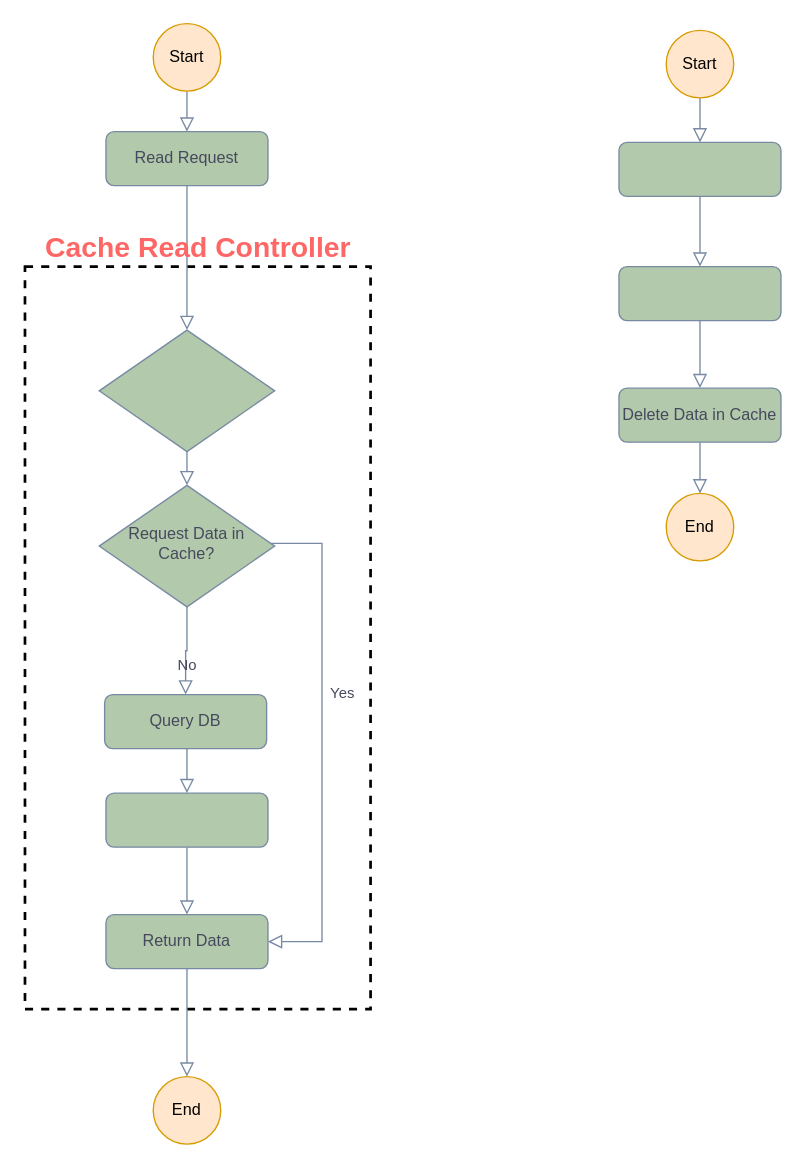
Some shapes in this 805 by 1168 pixel diagram are drawn without their labels. Here are the shapes that lost their labels. From the top down, the box of each, then its label:
(618, 141, 781, 196): Write Request
(618, 265, 781, 321): Update DB
(98, 329, 275, 452): Is there Lock
(105, 792, 268, 847): Update Cache
